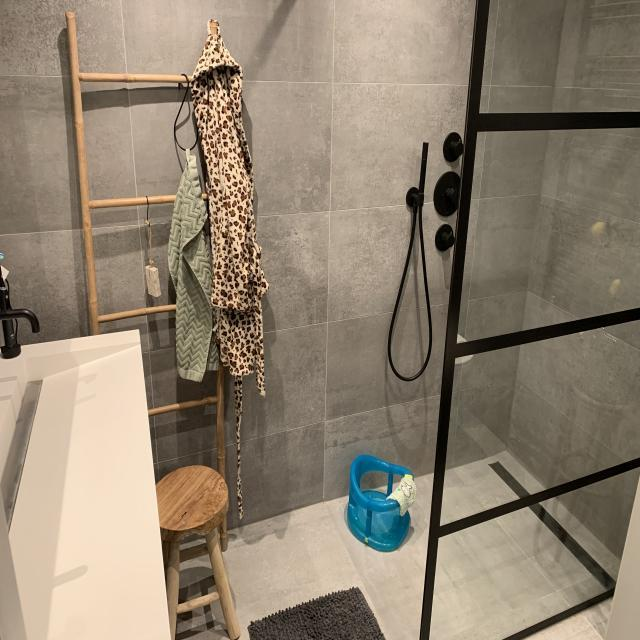douche: (384, 0, 640, 640)
wastafel: (0, 271, 171, 640)
